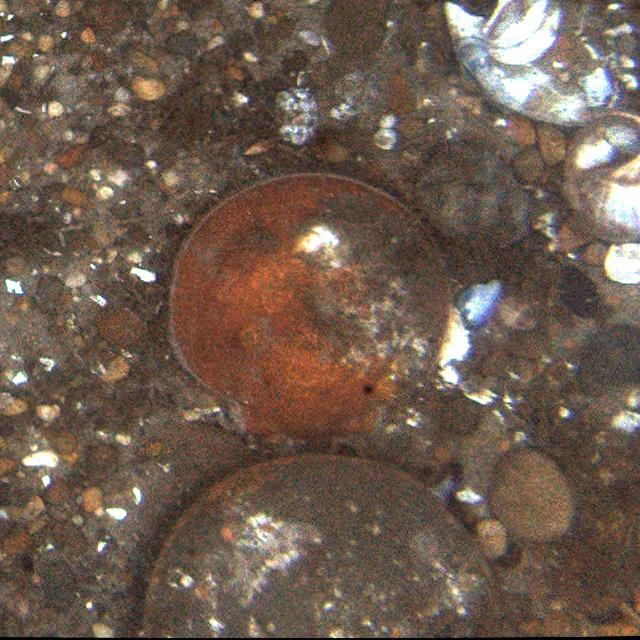scallop: (176, 172, 442, 442)
